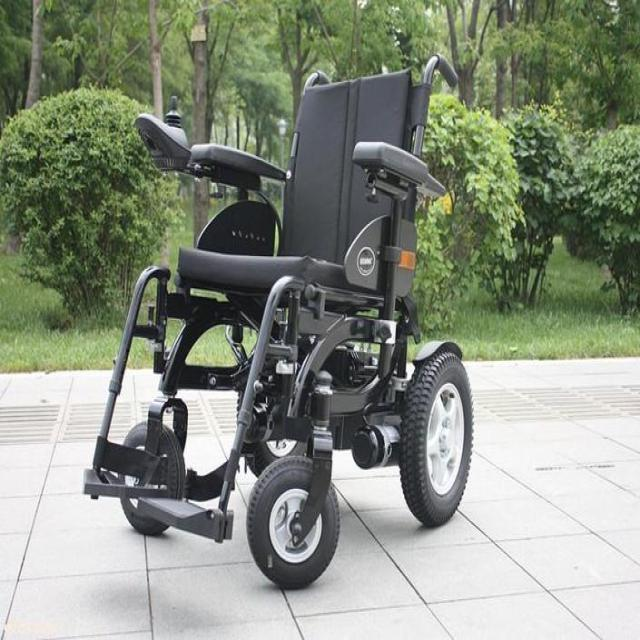wheelchairs: (81, 51, 494, 594)
